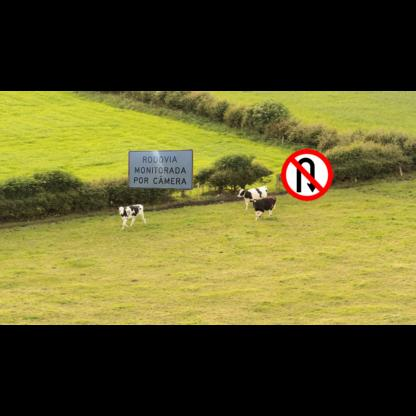I-E: (128, 149, 193, 190)
